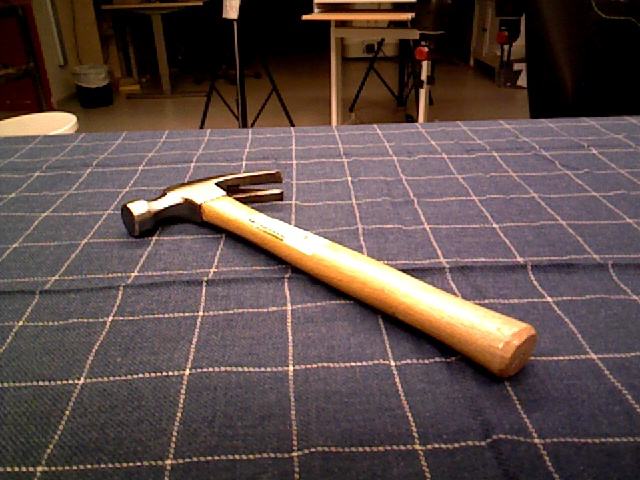hammer1: (120, 170, 539, 382)
